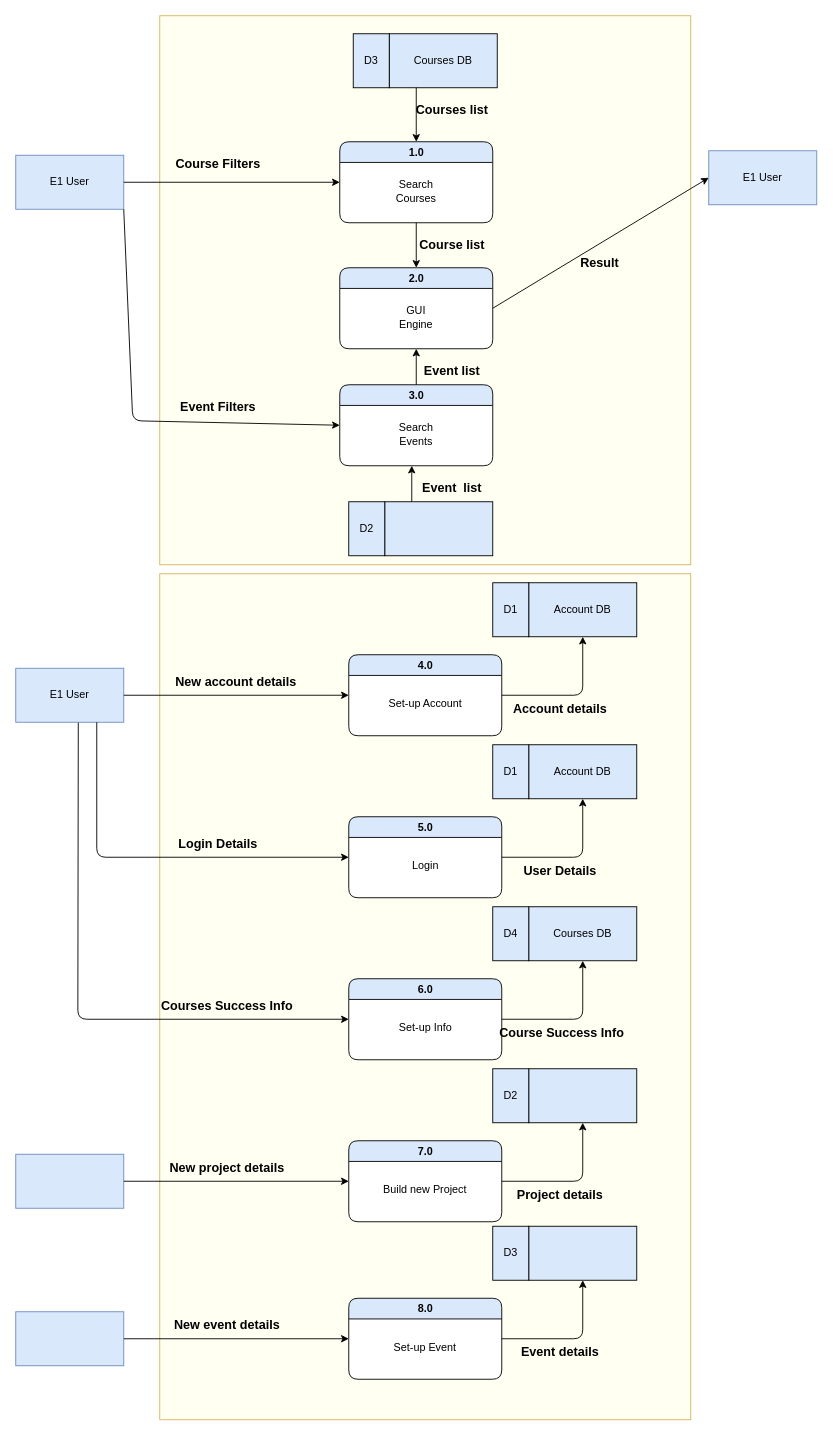
This 833x1436 diagram has some shape labels left out. The shapes that lost their labels are listed below. From the top down, each one's centre as x and y in pixels, then its label:
At point (438, 528): "Events DB".
At point (582, 1095): "Projects DB".
At point (69, 1180): "E2 Signed-In User".
At point (582, 1252): "Asset DB".
At point (69, 1338): "E3 User-teacher".
